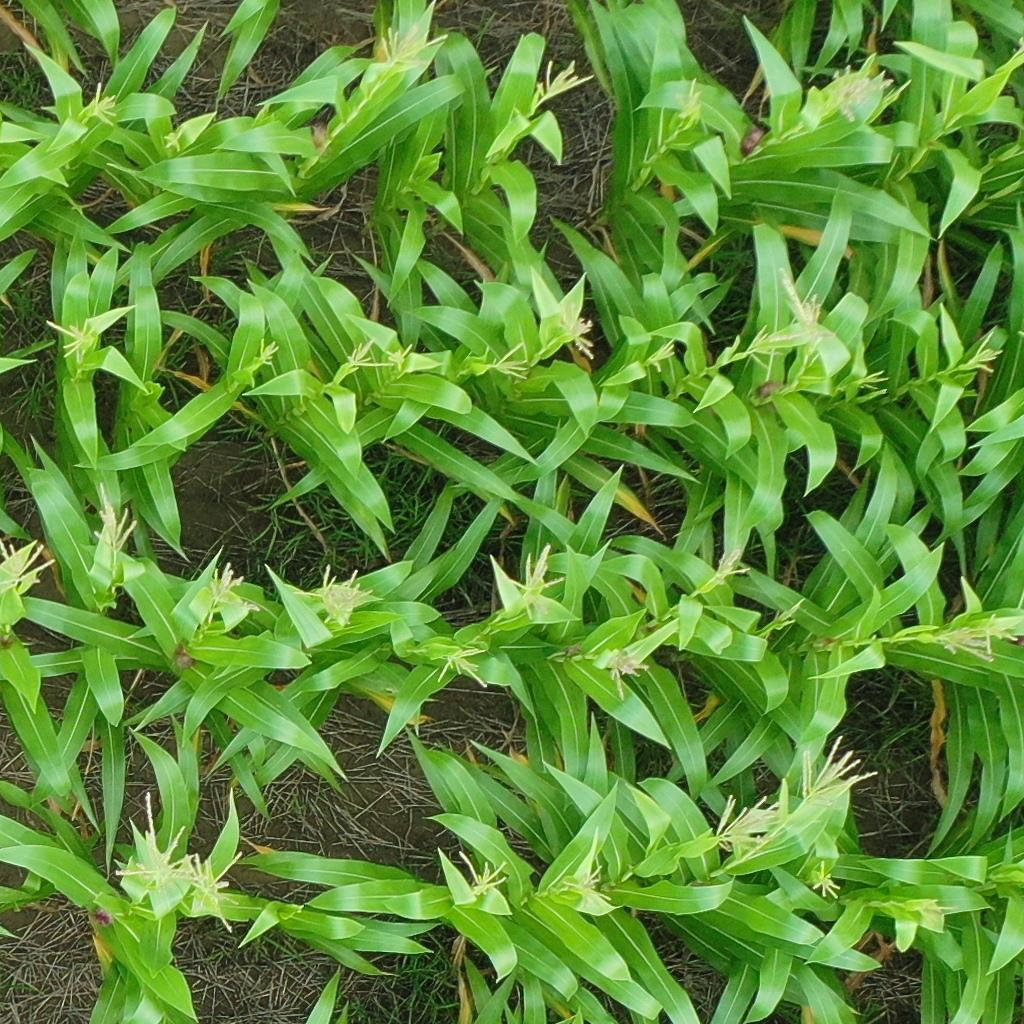Tassel: (799, 49, 899, 132), (110, 790, 193, 888), (170, 848, 252, 935), (794, 734, 881, 804), (496, 543, 567, 624), (286, 564, 369, 631), (710, 791, 787, 859), (775, 268, 833, 354), (928, 612, 1021, 664), (519, 57, 602, 113), (424, 641, 496, 695), (372, 24, 452, 71), (1, 536, 60, 597), (589, 645, 649, 704), (43, 306, 105, 363), (203, 560, 264, 616), (91, 484, 138, 554), (952, 327, 1006, 383), (663, 73, 711, 130), (457, 848, 509, 899), (554, 299, 597, 360), (555, 863, 616, 904), (743, 325, 790, 374), (78, 81, 123, 129), (344, 335, 390, 378), (490, 342, 537, 380), (711, 548, 752, 588), (903, 895, 958, 924), (807, 857, 843, 901), (643, 333, 678, 377), (768, 595, 806, 634), (382, 344, 416, 377), (855, 368, 888, 395), (256, 338, 281, 371), (158, 129, 190, 154)
